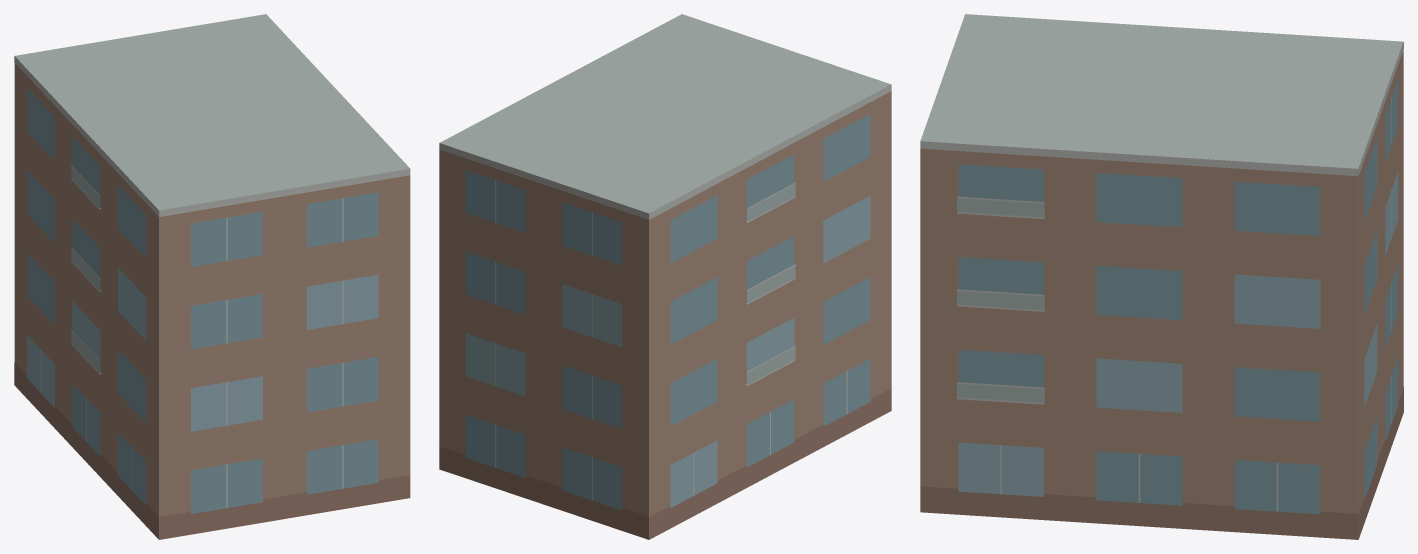
Rendered from residential-2abb6412-c747-463e-9333-c2415e82e244.glb.
The picture shows the model from 3 angles, left to right: view 1: azimuth 30°, elevation 25°; view 2: azimuth 150°, elevation 25°; view 3: azimuth 270°, elevation 25°; orthographic projection. The views are drawn at different scales.
Parts seen in each view (by area): view 1: residential-2abb6412-c747-463e-9333-c2415e82e244.tmp; view 2: residential-2abb6412-c747-463e-9333-c2415e82e244.tmp; view 3: residential-2abb6412-c747-463e-9333-c2415e82e244.tmp.
Part boxes in pixels (<box>): residential-2abb6412-c747-463e-9333-c2415e82e244.tmp: <box>14,14,410,539</box>; residential-2abb6412-c747-463e-9333-c2415e82e244.tmp: <box>439,14,891,539</box>; residential-2abb6412-c747-463e-9333-c2415e82e244.tmp: <box>920,14,1403,539</box>.
Size of the model in its own units: 10.93 by 12.2 by 14.42.
